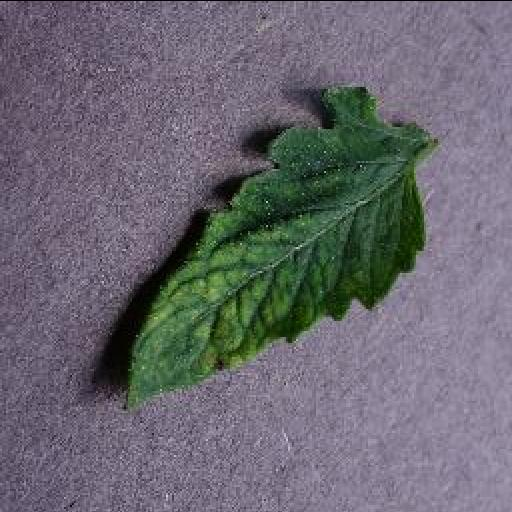disease_tomato: (121, 82, 431, 412)
